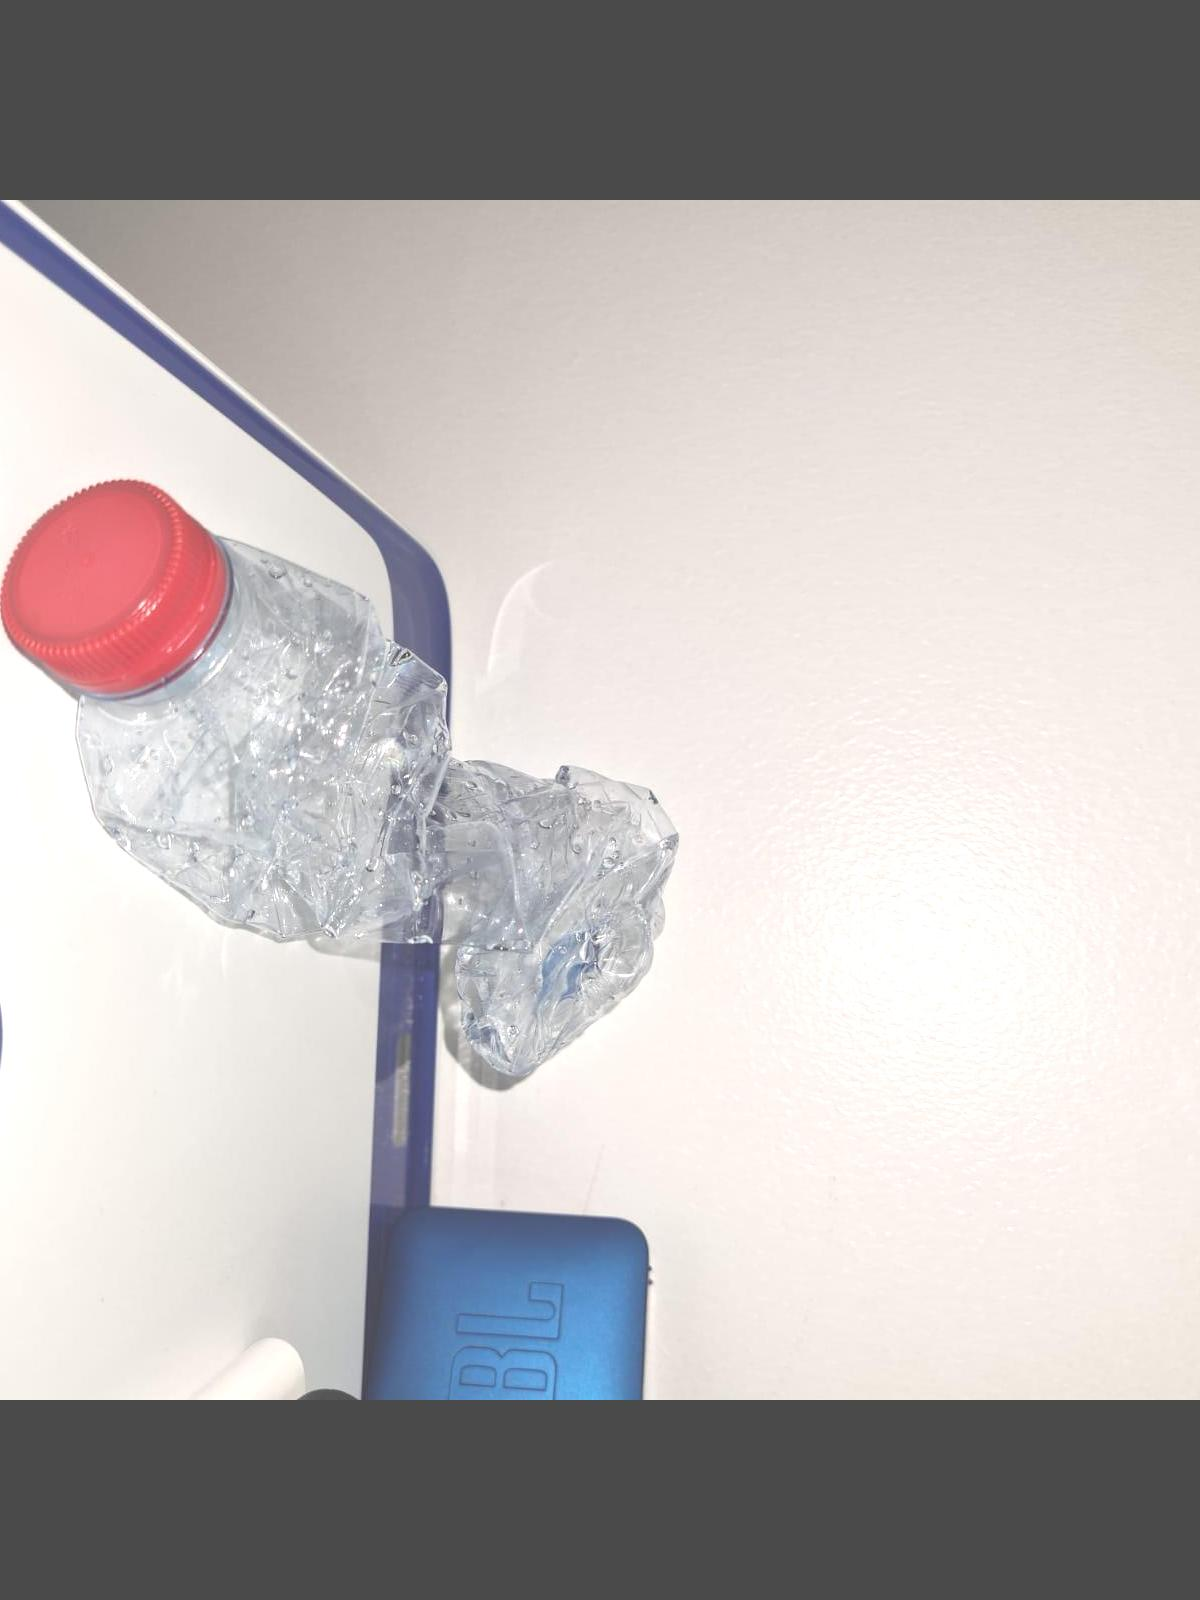bottle: (6, 488, 669, 1095)
